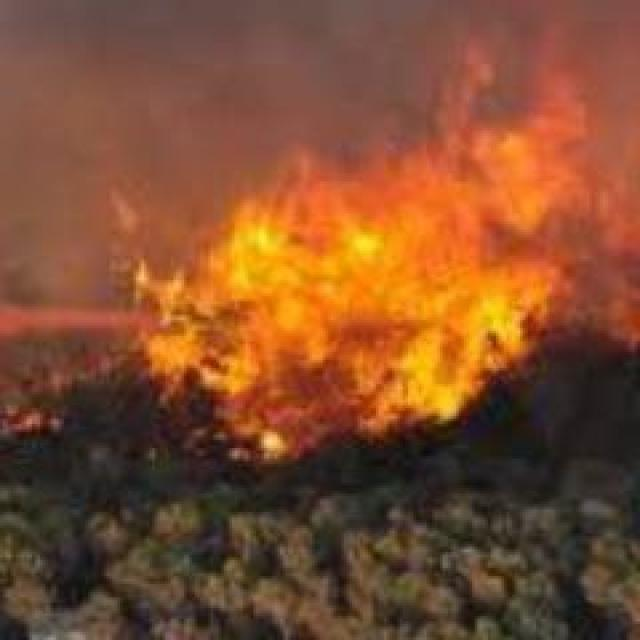Fire: (456, 42, 638, 338), (224, 346, 386, 480), (430, 160, 559, 292), (297, 187, 423, 321), (150, 225, 280, 328), (420, 312, 524, 406)
Smoke: (0, 0, 447, 141), (3, 124, 137, 322)
